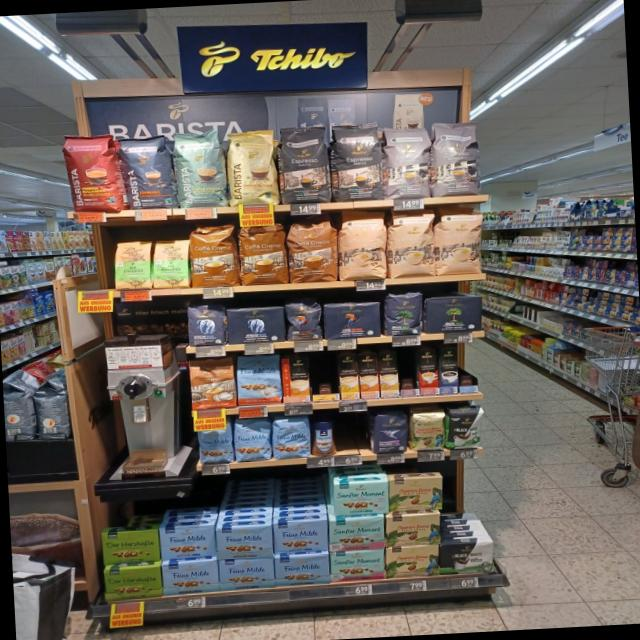AB Bohne: (186, 298, 228, 348)
AB Gemahlen: (226, 306, 286, 346)
Athiopien Gemahlen: (151, 237, 192, 291), (112, 240, 154, 292)
BM Gemahlen: (426, 295, 484, 334), (438, 540, 495, 576)
BW Bohne: (380, 289, 424, 338), (445, 403, 486, 450)
Barista CB: (224, 126, 283, 210)
Barista CC: (170, 130, 232, 211)
Barista Espresso: (116, 133, 182, 211)
Barista Kolumbien: (58, 133, 131, 215)
C Fino Bohne: (368, 408, 410, 456)
CC Mild: (431, 205, 488, 278), (334, 208, 389, 282), (384, 208, 438, 280)
CC Vollmundig: (188, 356, 238, 410)
CC Vollmundig 36 Pads: (284, 214, 340, 286), (187, 222, 241, 290), (236, 222, 290, 288)
Colombia BB Bohne: (408, 407, 447, 452)
Colombia BB Gemahlen: (385, 544, 442, 580), (387, 477, 444, 513), (384, 514, 442, 548)
Empty Shelf: (309, 356, 342, 402), (336, 416, 368, 454), (398, 350, 422, 398), (456, 346, 479, 394)
Espresso Aromatisch: (378, 122, 436, 202), (428, 119, 483, 199)
Espresso Kraftig: (275, 124, 333, 208), (328, 121, 386, 204)
FM 36 Pads: (235, 352, 284, 407)
FM Bohne: (270, 414, 312, 459), (232, 416, 273, 462), (198, 428, 235, 464)
FM Gemahlen: (161, 559, 221, 598), (213, 523, 276, 559), (158, 524, 218, 561), (272, 552, 332, 588), (217, 556, 276, 591), (272, 520, 330, 554)
FM Instant: (310, 418, 338, 458)
Herzhatfe Mundig: (100, 529, 162, 565), (103, 566, 164, 602)
LG Bohne: (284, 296, 324, 342)
LG Gemahlen: (322, 301, 382, 341)
SM Gemahlen: (332, 480, 390, 518), (328, 516, 386, 552), (329, 549, 386, 583)
Simo CCMild bigpack: (338, 353, 362, 401)
Simo CCVollmundig: (281, 357, 313, 404)
Simo CCVollmundig bigpack: (358, 352, 382, 400)
Simo Decaff: (377, 351, 401, 398)
Simo Es Elegant: (416, 348, 441, 398)
Simo Kaffee Kraft: (438, 346, 461, 396)
